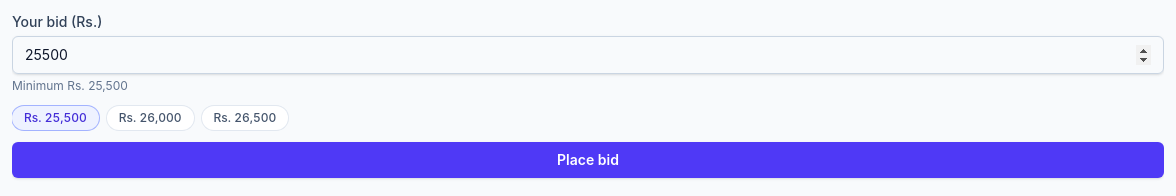
<BidForm> › blocks an empty amount
The width and height of the screenshot is (1176, 196).
Clear the number field labelled "Your bid (Rs.)" at x=588, y=55, box 12,36 -> 1164,74
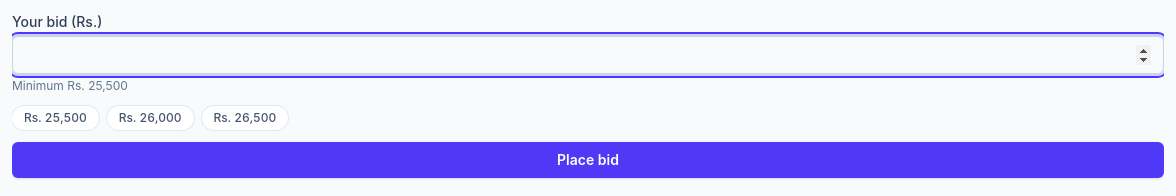
Click the button "Place bid" at x=588, y=160, box 12,142 -> 1164,178
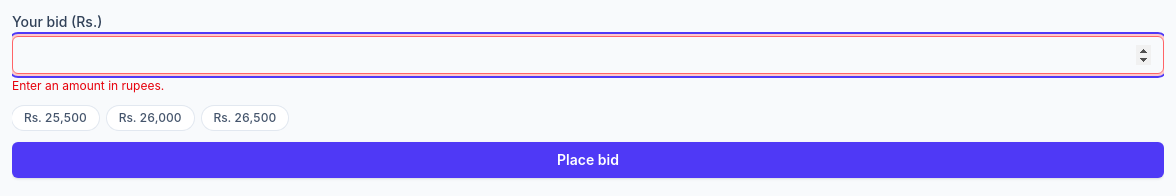
Expected: the text "Enter an amount in rupees." is shown, 12,78 -> 164,93
